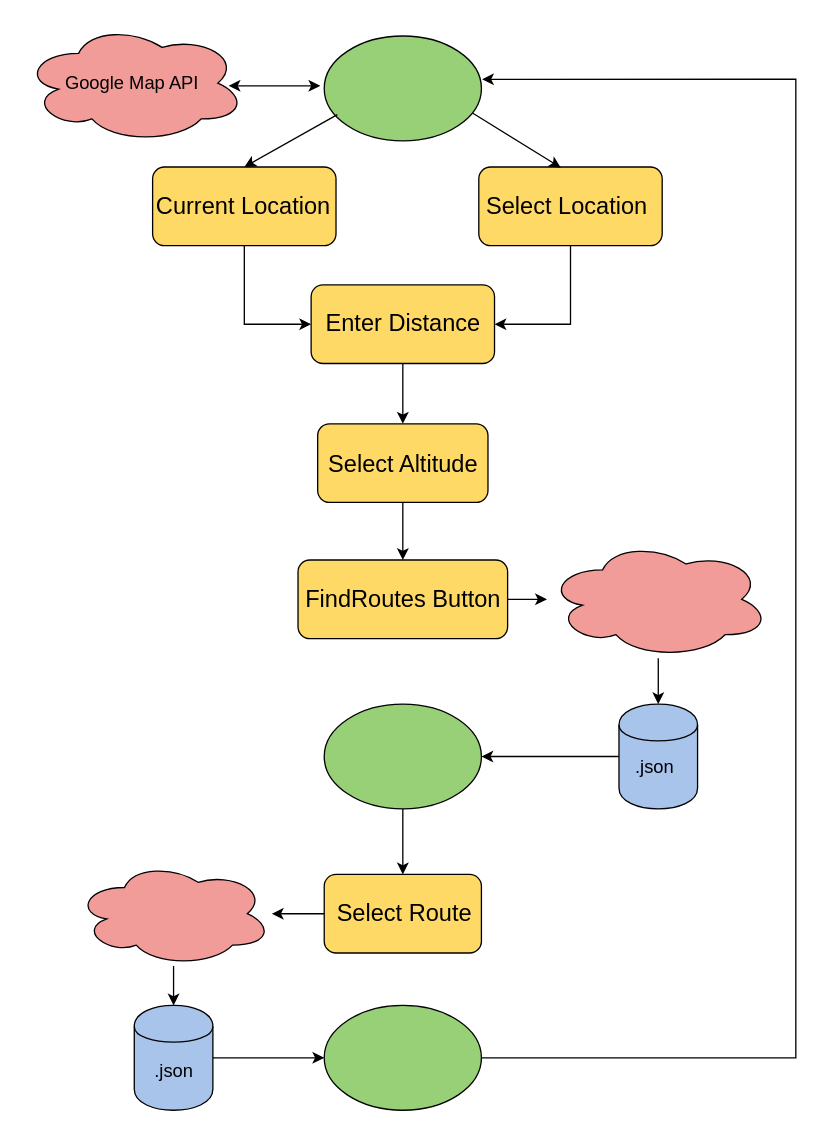
The diagram is 829 pixels wide and 1133 high, and some of its shapes have lost their labels. Each missing label, with the box of its shape:
Google Direction API: (74, 860, 272, 966)
Google Distance Matrix API: (546, 539, 770, 658)
Map: (323, 35, 481, 141)
Route Options: (323, 703, 481, 809)
Show Route: (323, 1004, 481, 1110)
